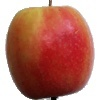apple: (6, 6, 94, 100)
